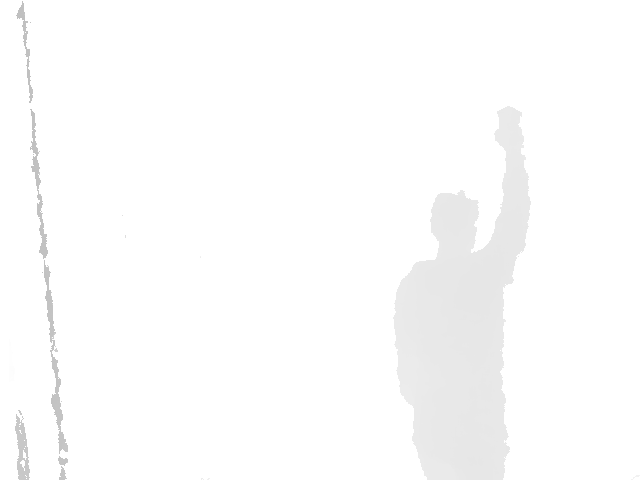hand: (493, 105, 526, 153)
head: (431, 191, 479, 260)
person: (392, 105, 533, 480)
